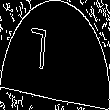L_S: (45, 28, 65, 82)
